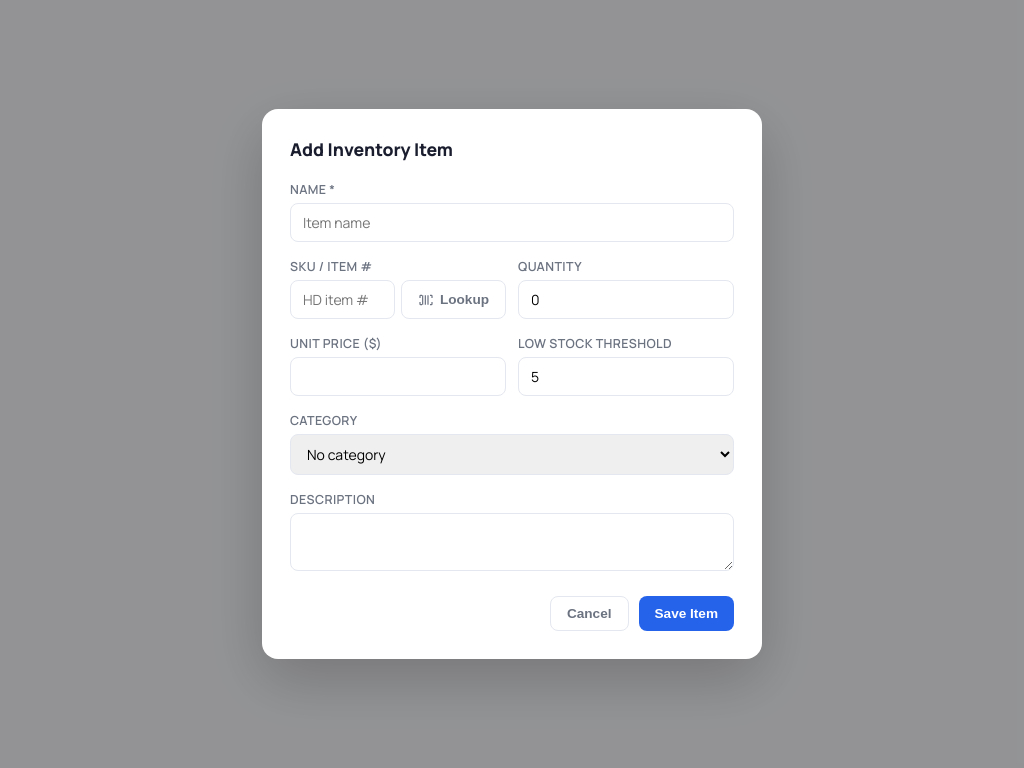
Test: ItemModal › shows an error message when save fails
The width and height of the screenshot is (1024, 768).
Type "Hammer" into the field with placeholder "Item name" at (512, 222), box [290,203,734,242]
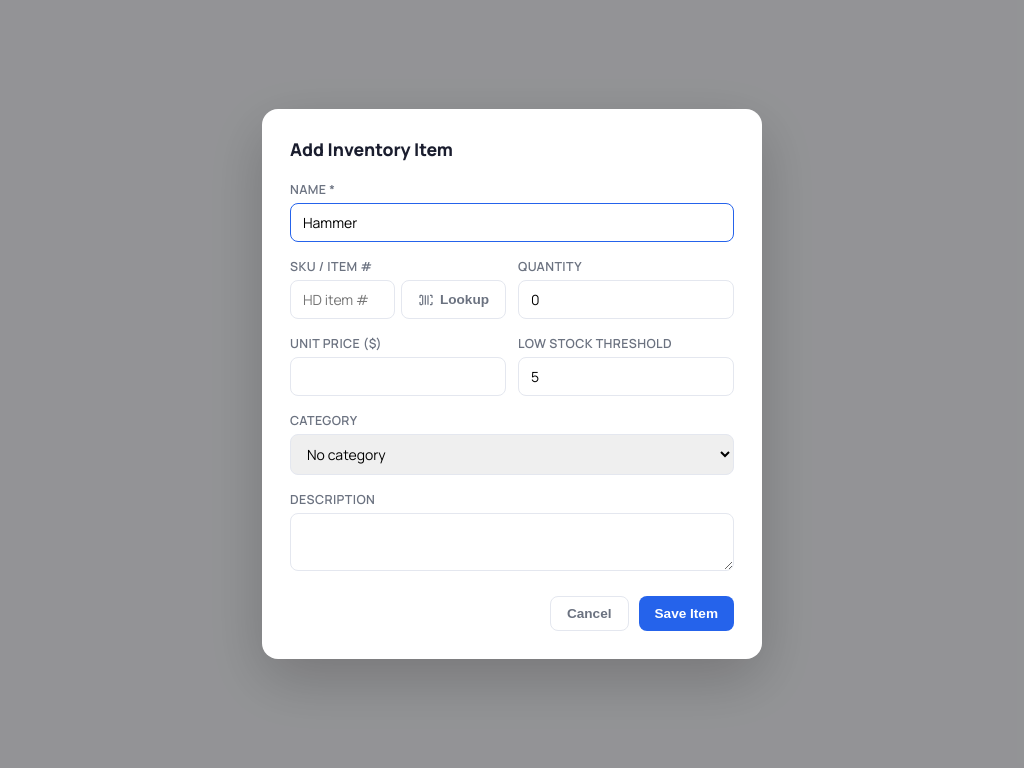
Click the button "Save Item" at (686, 614), box [638,596,734,631]
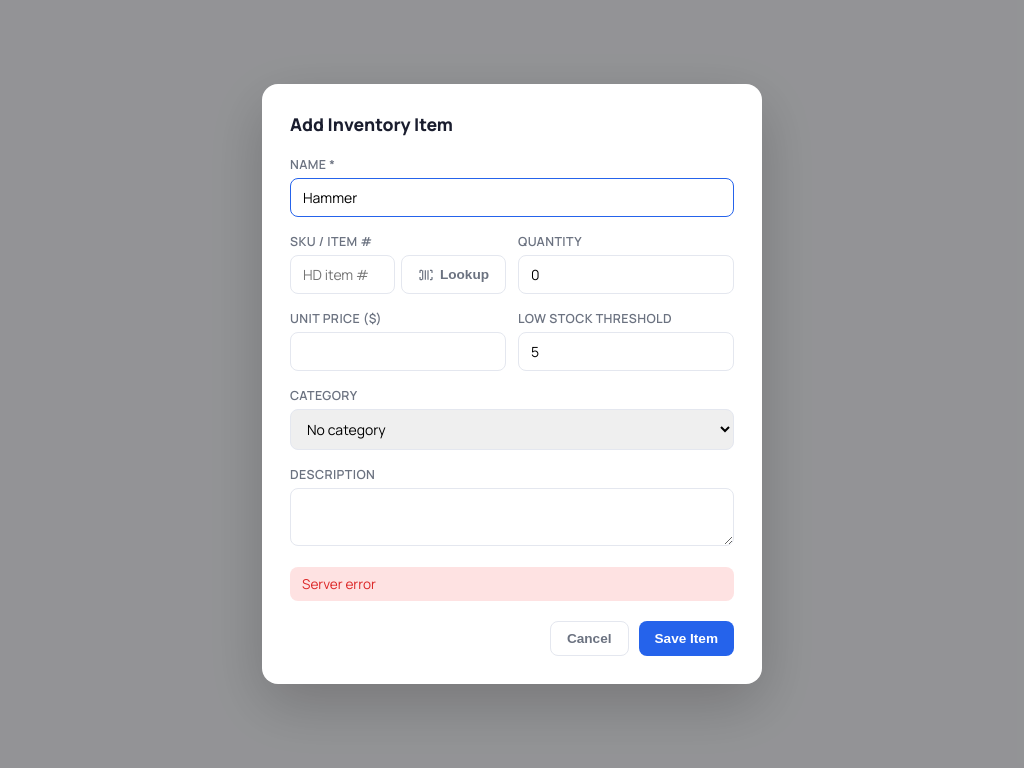
Expected: the text "Server error" is shown, [290,567,734,601]
